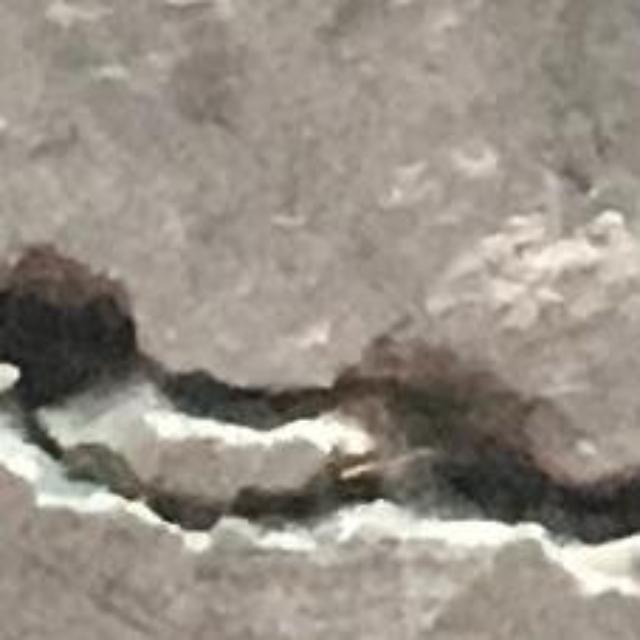crack: (0, 246, 639, 575)
